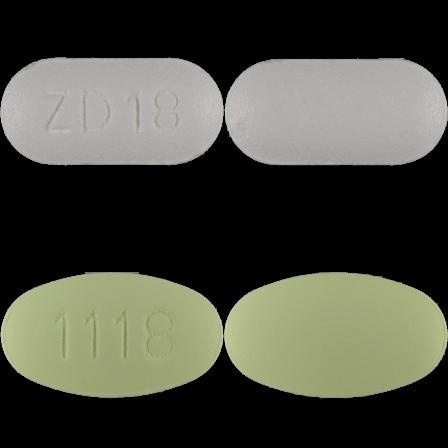50436-6665: (0, 0, 224, 224)
